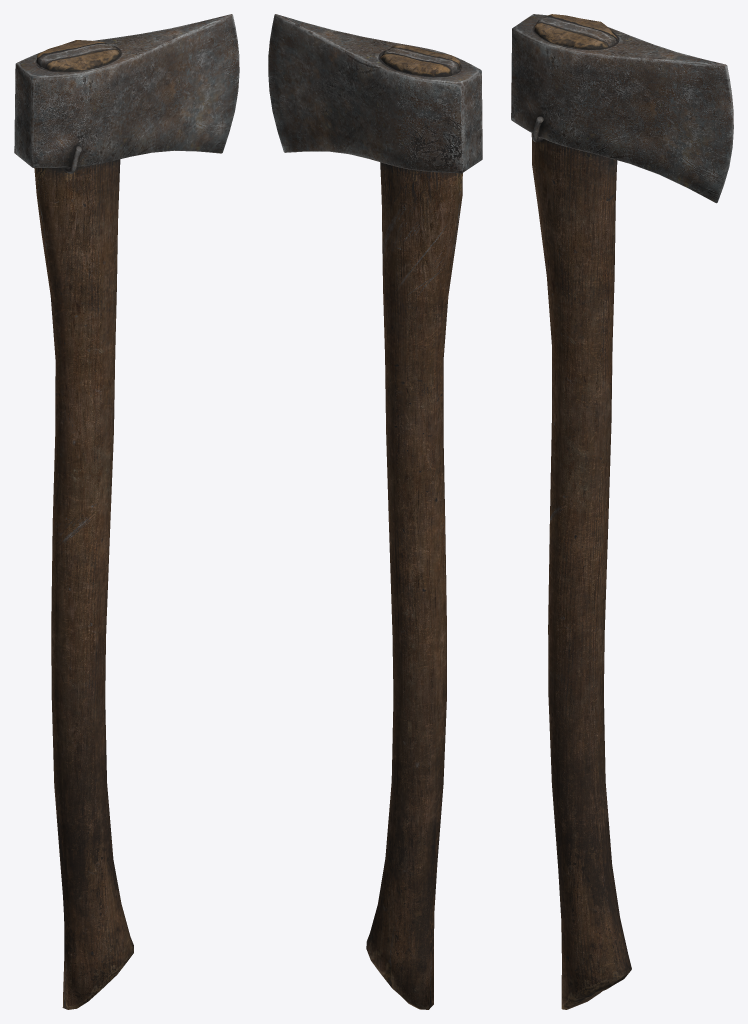
Rendered from axe.glb.
3 renders of one model, left to right at view 1: azimuth 30°, elevation 25°; view 2: azimuth 150°, elevation 25°; view 3: azimuth 330°, elevation 25°, orthographic. The views are drawn at different scales.
Visible parts, largest first — view 1: M_Axe_demo; view 2: M_Axe_demo; view 3: M_Axe_demo.
Boxes of the visible parts, x1,y1,x2,y2 form: M_Axe_demo: (14, 14, 239, 1009); M_Axe_demo: (268, 14, 482, 1009); M_Axe_demo: (511, 14, 733, 1009).
Size of the model in its own units: 0.2202 by 0.9516 by 0.0657.
Materials: 1 (1 with a texture image).
